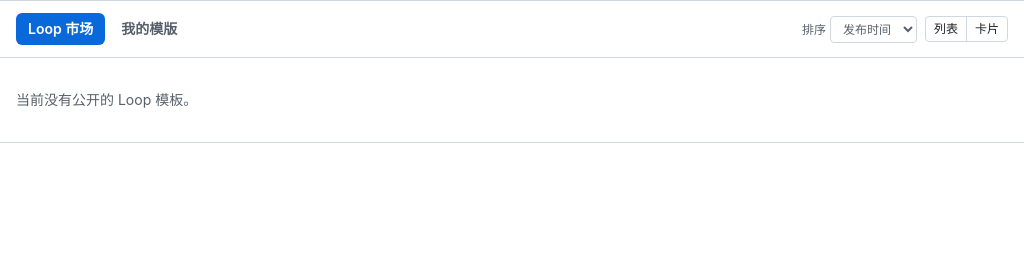
Test: DevelopmentTemplateLibrary › exposes editing for a creator-owned custom template
The width and height of the screenshot is (1024, 261).
Click the tab "我的模版" at point(149, 29), box x1=109 y1=13 x2=189 y2=45
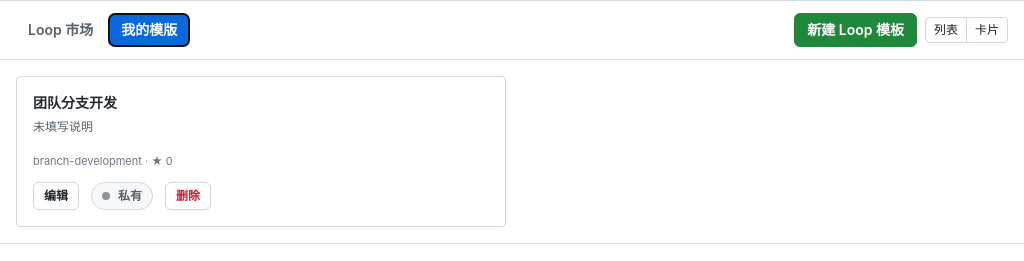
Check: the link "编辑" is shown, box x1=33 y1=182 x2=79 y2=210
